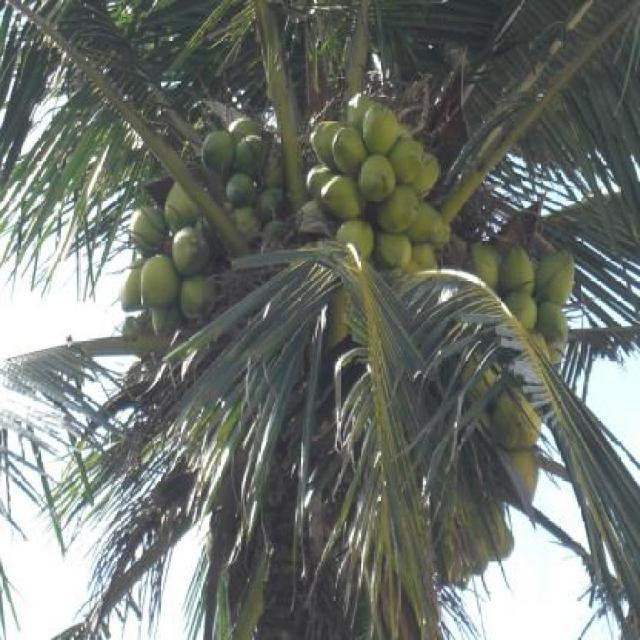Coconut: (1, 1, 640, 640), (427, 230, 576, 590), (292, 89, 454, 278), (118, 181, 219, 336), (200, 114, 288, 242)
